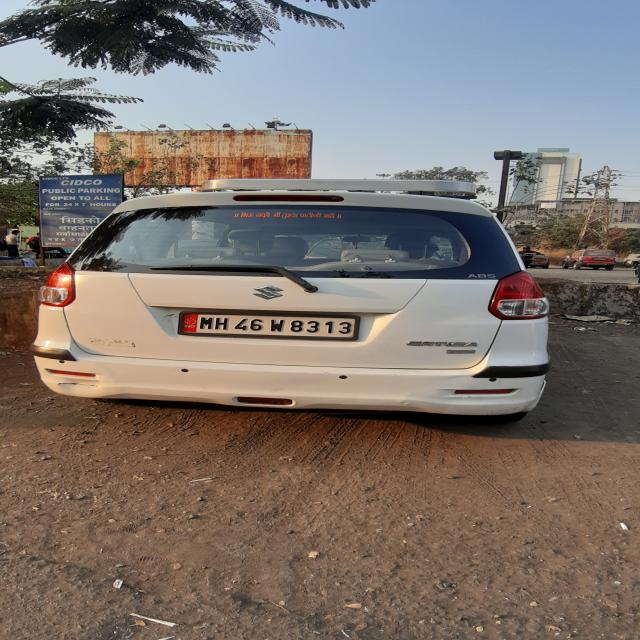Number-Plate: (183, 314, 360, 337)
